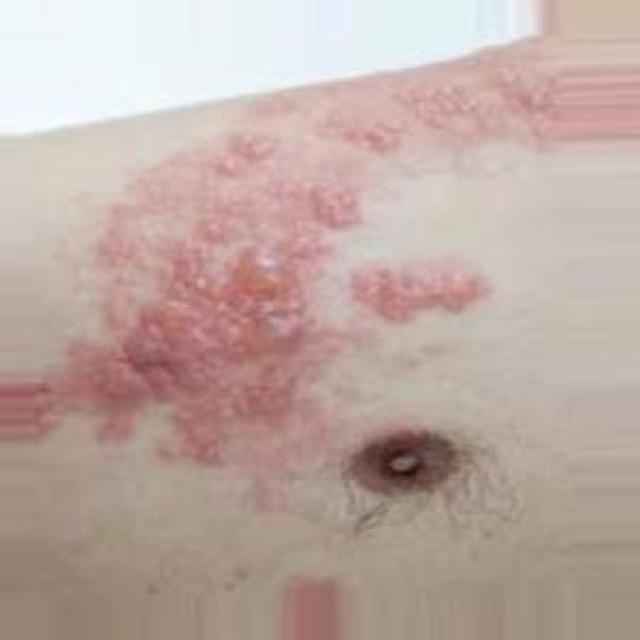Shingles: (53, 81, 537, 470)
